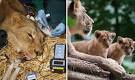lion: (1, 7, 45, 61), (65, 2, 91, 61)
